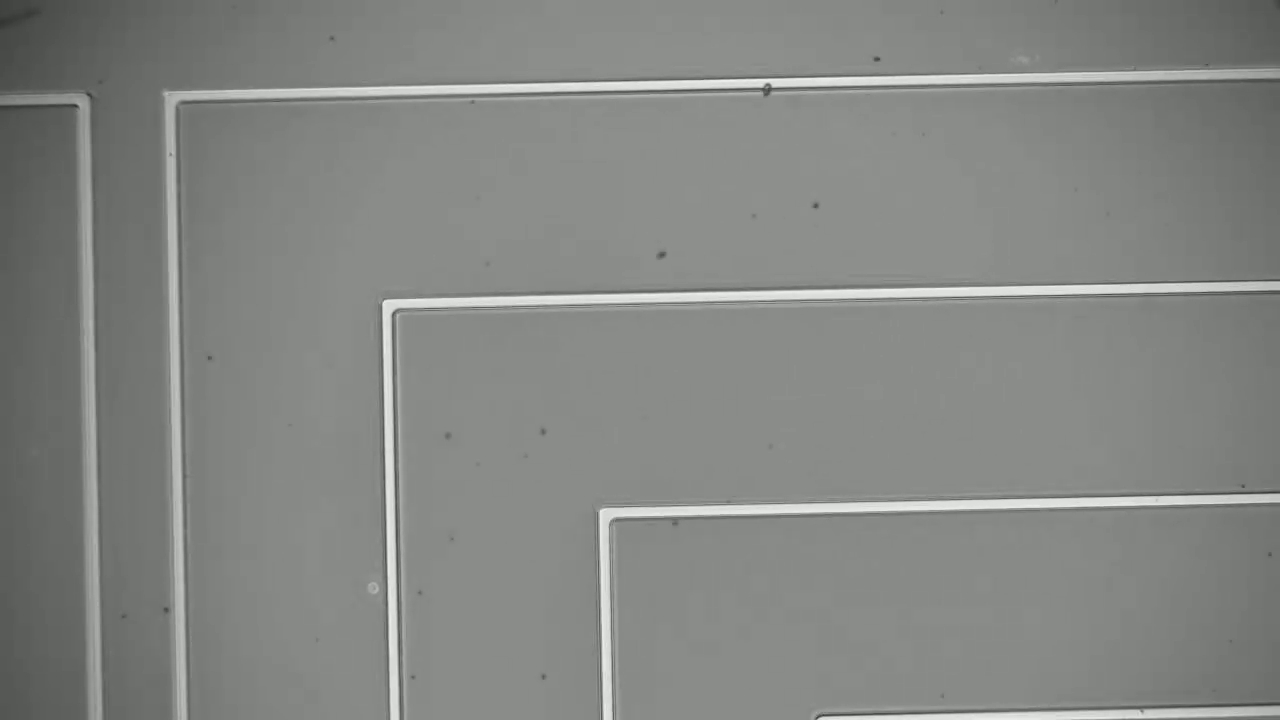stains_enbedded: (757, 72, 776, 99)
